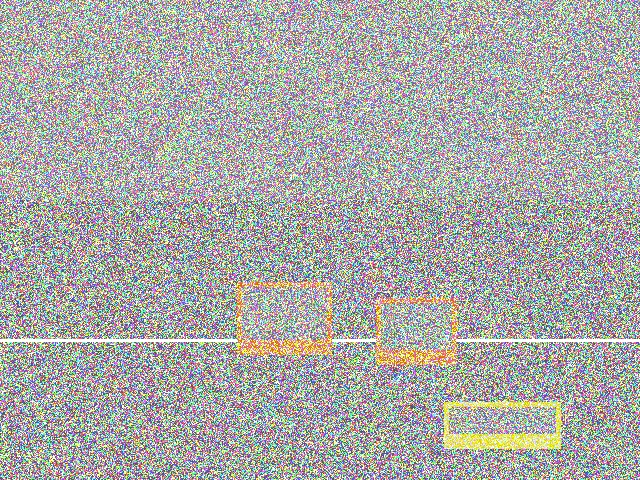car: (338, 383, 443, 454), (230, 227, 301, 320)
motorcycle: (142, 272, 276, 352)
